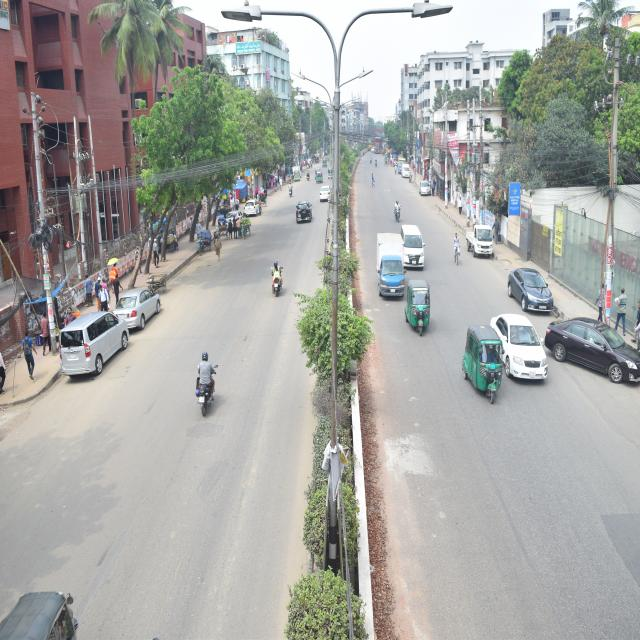car: (544, 314, 640, 401), (57, 309, 131, 378), (491, 313, 552, 387), (504, 263, 559, 319), (114, 282, 164, 331), (294, 196, 313, 227), (244, 196, 266, 219), (319, 181, 333, 208), (418, 177, 433, 201)
microbus: (399, 219, 432, 272)
motorbike: (194, 353, 217, 422), (268, 260, 286, 300), (394, 198, 402, 223)
pickup-van: (375, 228, 408, 302)
